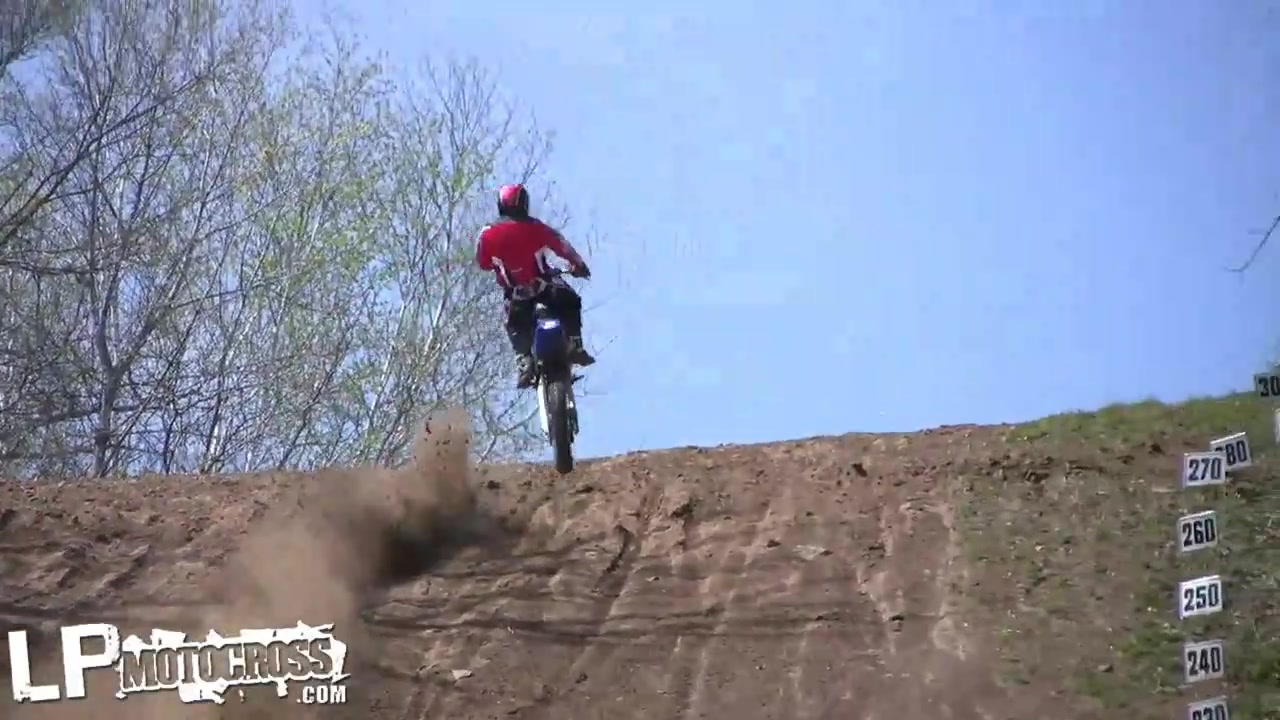motorbike: (513, 261, 594, 472)
